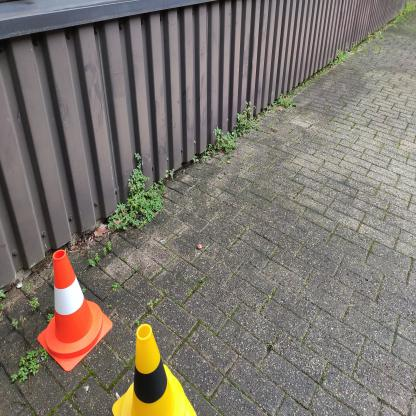Cones_small_orange: (26, 239, 117, 379)
Cones_small_yellow: (111, 305, 200, 415)
